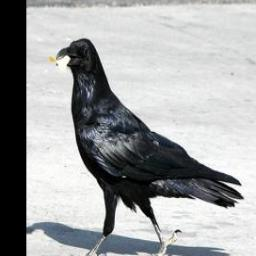Crow: (51, 38, 246, 256)
